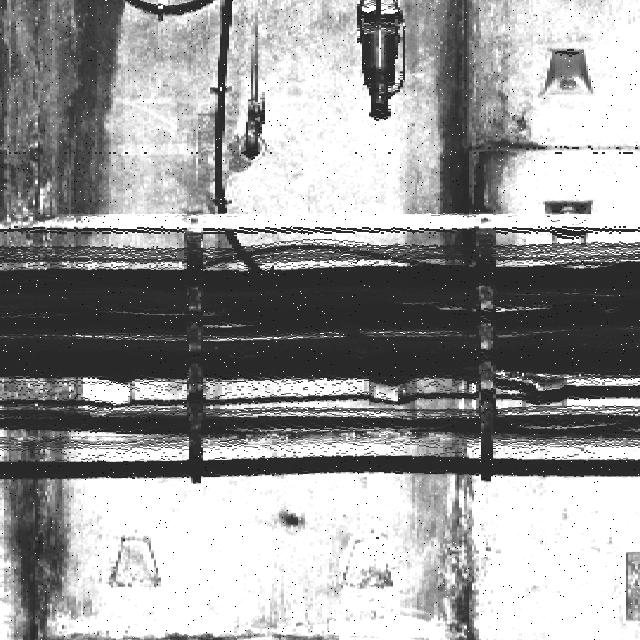leakage: (3, 0, 132, 636), (419, 0, 524, 269)
